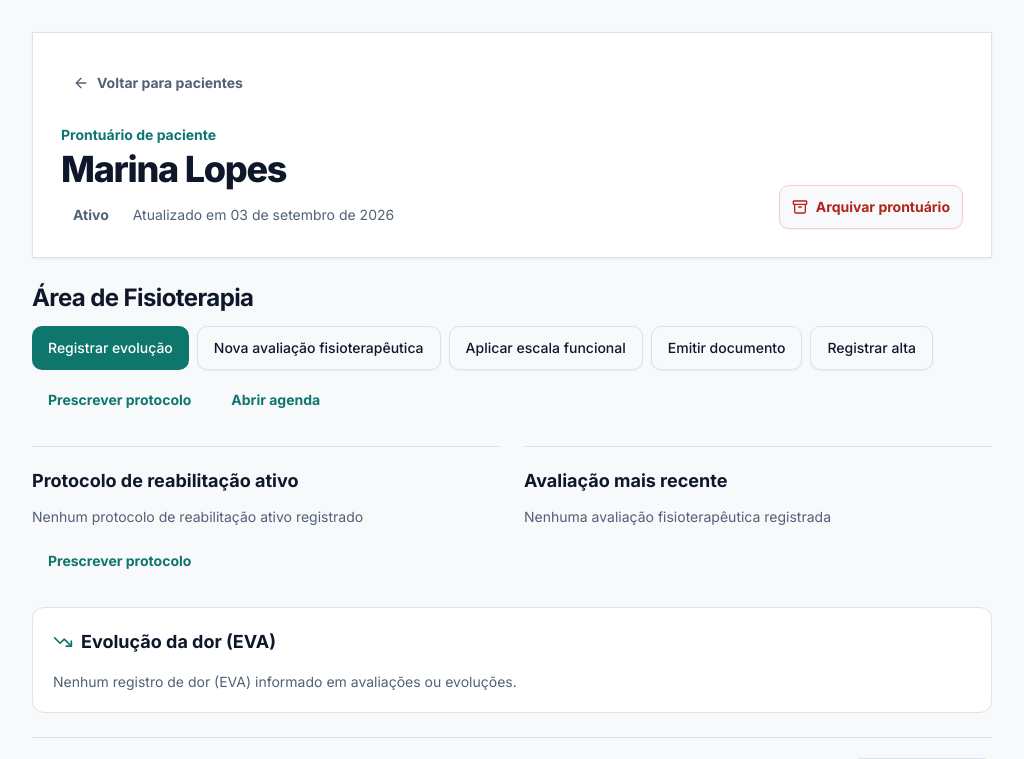
Scenario: professional Client record › keeps archival explicit, accessible and never offers deletion
Later steps or results of the test are not shown.
Click the button with aria-label "Arquivar paciente Marina Lopes". click: (871, 207)
box: [779,185,963,229]
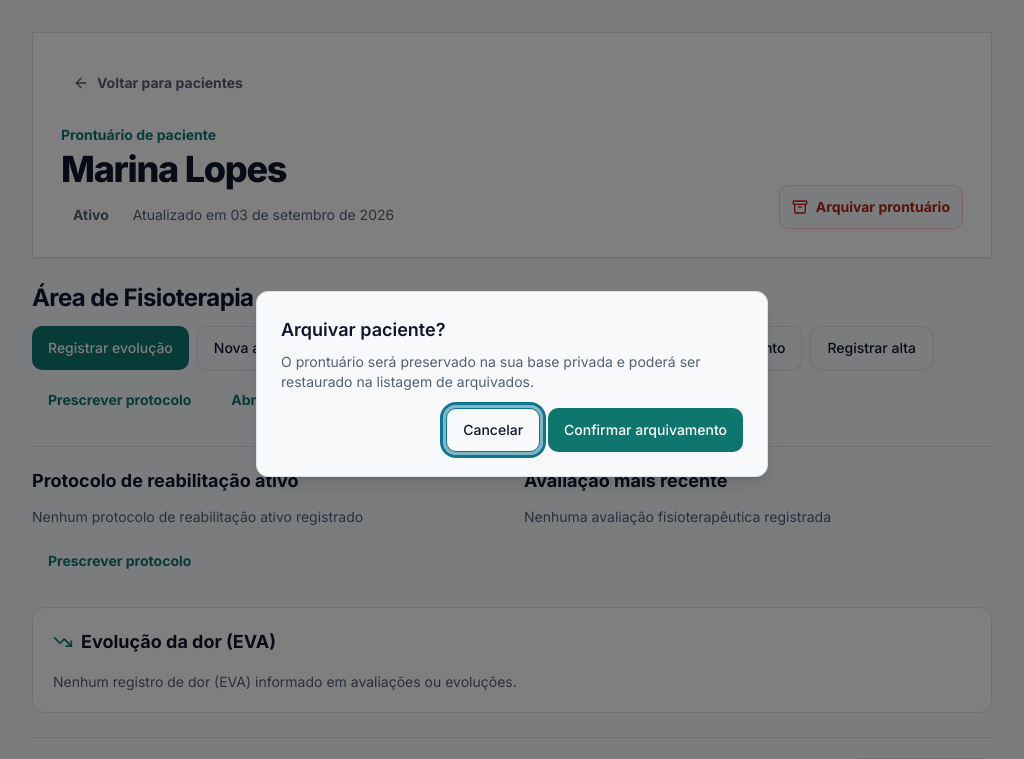
Result: the dialog "Arquivar paciente?" is shown at [256,291,768,477]
